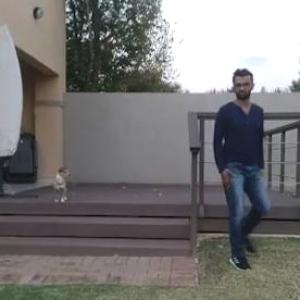follow: (198, 61, 265, 284)
